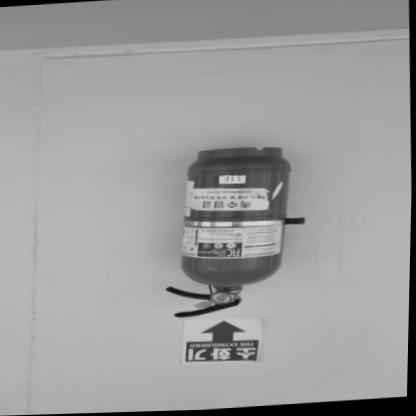FE: (162, 147, 296, 322)
